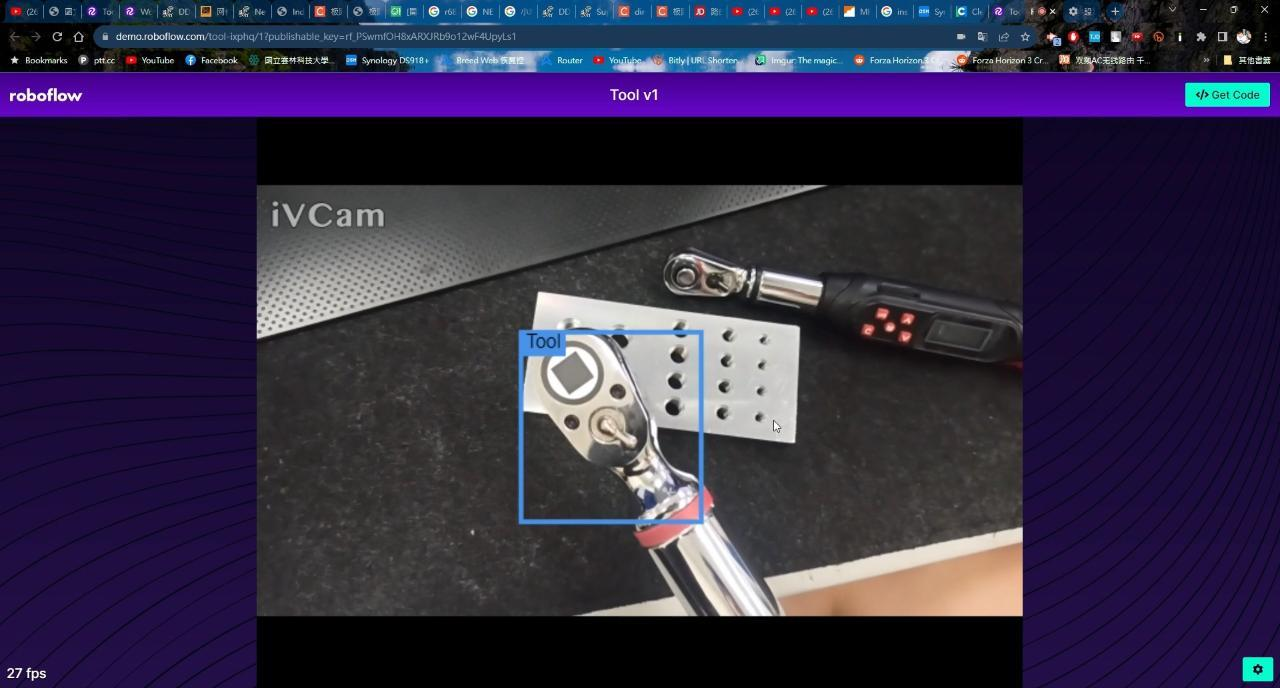Tool: (661, 247, 745, 299)
hole: (667, 343, 702, 367), (662, 397, 698, 417), (666, 369, 700, 389), (609, 331, 634, 357), (717, 404, 747, 421), (719, 377, 748, 393), (670, 317, 700, 332), (555, 316, 585, 330), (722, 353, 747, 368), (723, 328, 747, 343), (756, 385, 779, 398), (756, 358, 779, 371), (755, 409, 778, 421), (757, 333, 778, 344)
